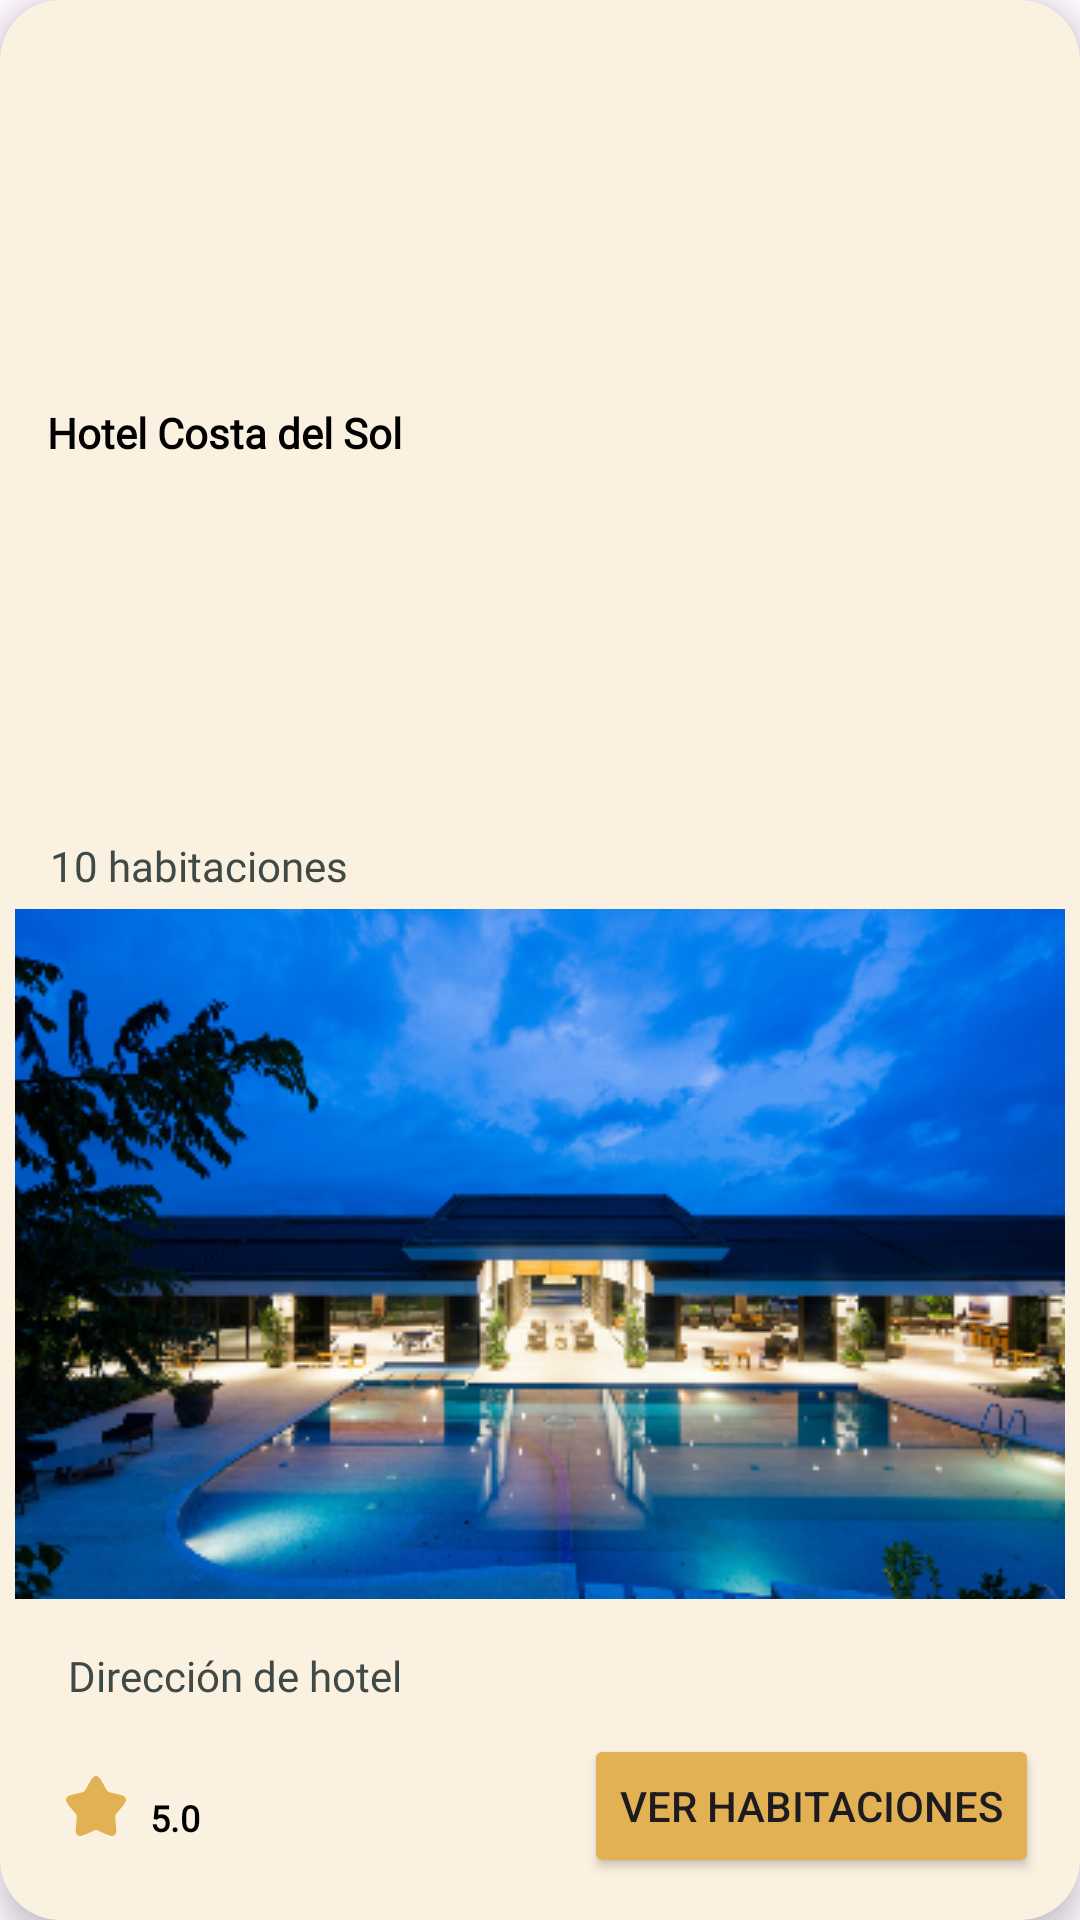

Icons on this 1080 × 1920 Android screen, each with its box as box(x1, y1, x2, y2):
estrella llena: box(66, 1776, 126, 1836)
